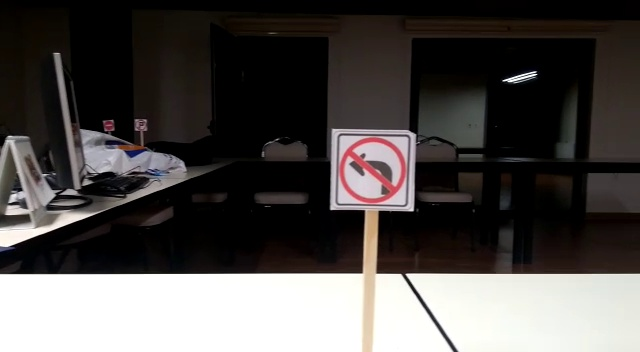sola_donulmez: (330, 135, 417, 211)
